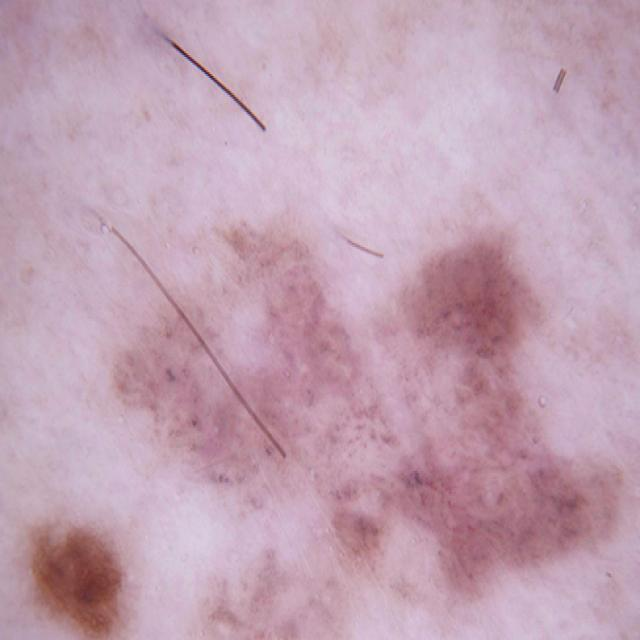Keratosis: (132, 299, 378, 451), (434, 326, 589, 566), (197, 541, 392, 640), (28, 494, 146, 620)
